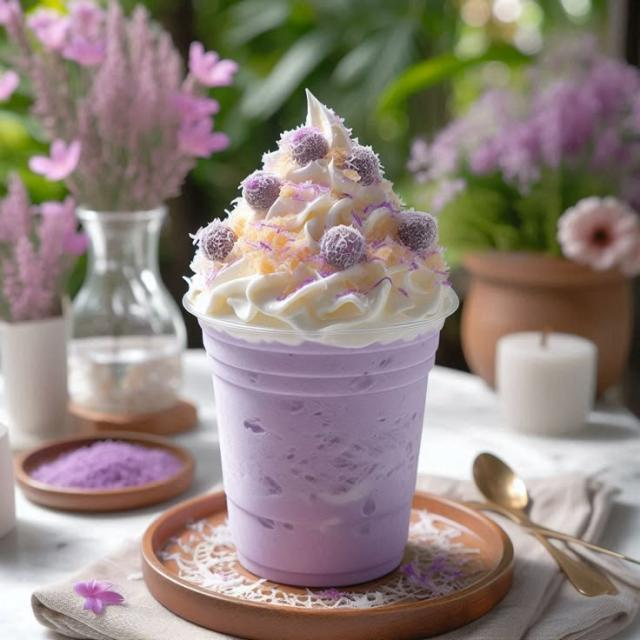plastic cup: (185, 89, 459, 588)
